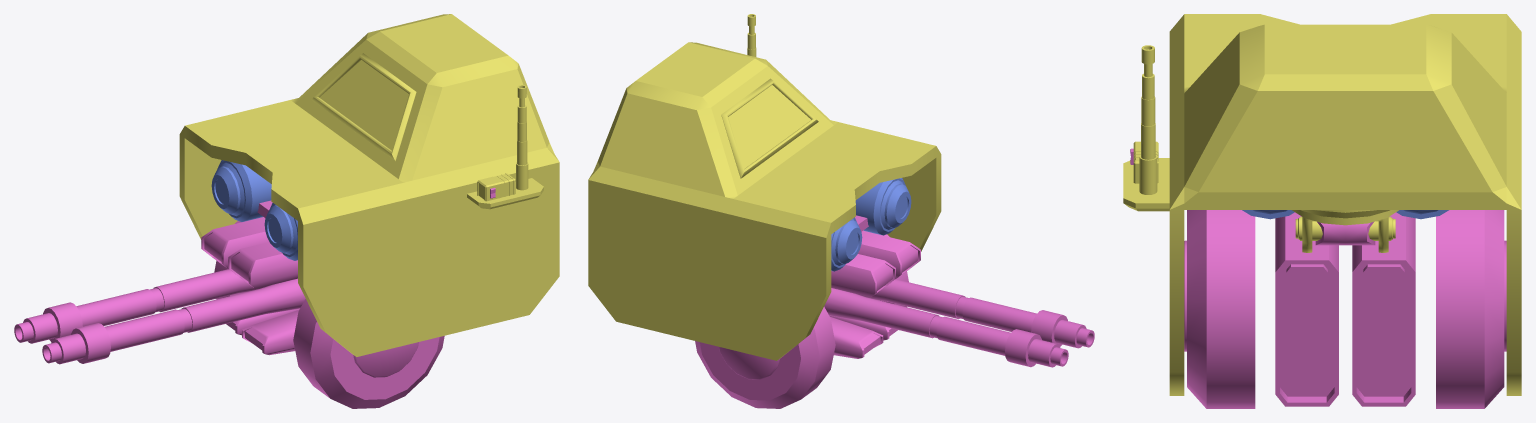
File: Turret.fbx
3 views of the same model, side by side, from view 1: azimuth 30°, elevation 25°; view 2: azimuth 150°, elevation 25°; view 3: azimuth 270°, elevation 25° (orthographic). The views are drawn at different scales.
Parts seen in each view (by area): view 1: MainTurret; view 2: MainTurret; view 3: MainTurret.
Boxes of the visible parts, x1,y1,x2,y2 form: MainTurret: (14, 14, 559, 408); MainTurret: (588, 14, 1094, 408); MainTurret: (1123, 14, 1521, 408).
Size of the model in its own units: 354 by 223 by 184.
